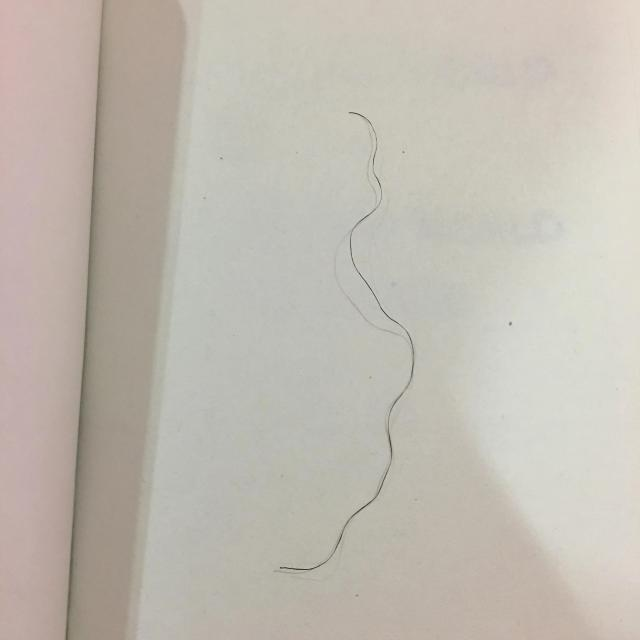hair: (274, 103, 427, 583)
